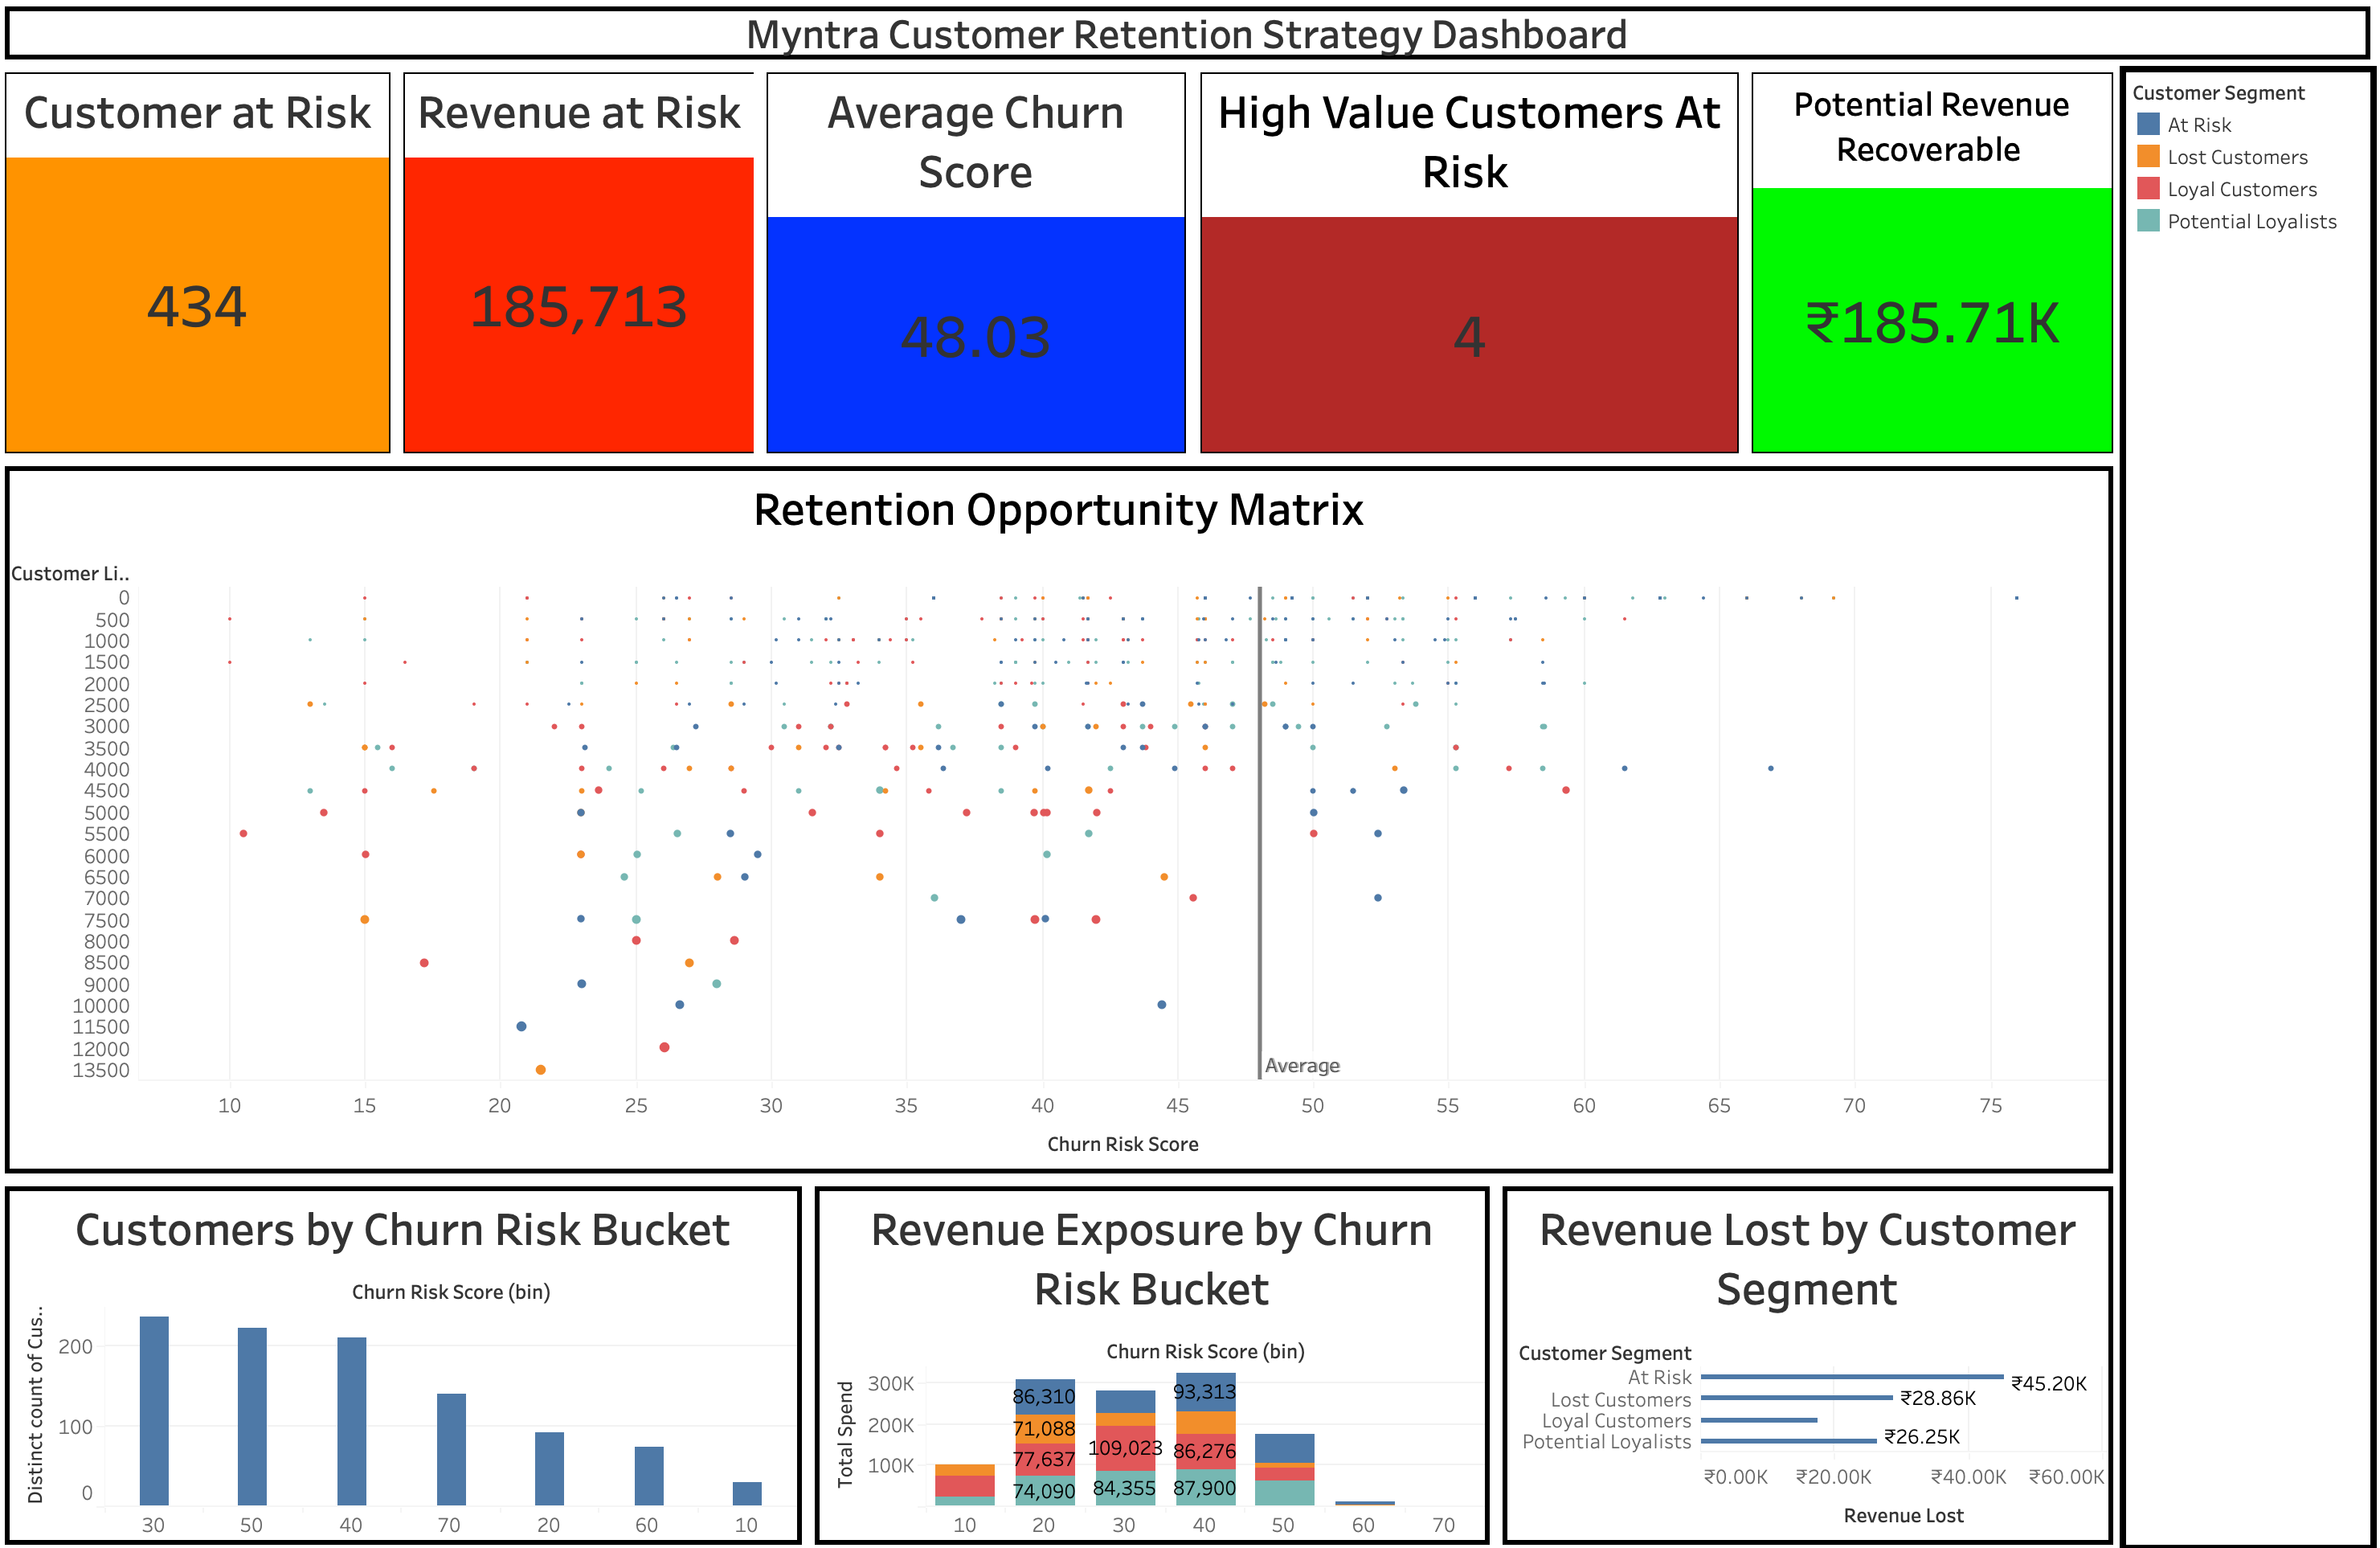

This screenshot's page, from the dashboard's own definition file:
{"tool":"tableau","page":{"name":"Myntra Customer Retention Strategy Dashboard","canvas":[1000,1000],"units":"permille","ordinal":3},"visuals":[{"type":"title","box":[5.4,8.2,989.3,41.8]},{"type":"worksheet","title":"Customer at Risk KPI","mark":"Automatic","box":[5.4,49.9,165.7,249.8]},{"type":"worksheet","title":"Revenue at Risk KPI","mark":"Automatic","box":[171.1,49.9,151.5,249.8]},{"type":"worksheet","title":"Average Churn Score KPI","mark":"Automatic","box":[322.5,49.9,180,249.8]},{"type":"worksheet","title":"High Value Customers At Risk KPI","mark":"Automatic","box":[502.6,49.9,229.5,249.8]},{"type":"worksheet","title":"Potential Revenue Recoverable KPI","mark":"Automatic","box":[732.1,49.9,155.6,249.8]},{"type":"legend","title":"Retention Opportunity Matrix","param":"[federated.08yzv0h1f0hq6t16tb4em1shkdt2].[none:customer_segment:nk]","box":[890.4,54,101.6,108]},{"type":"worksheet","title":"Retention Opportunity Matrix","mark":"Circle","rows":["Customer Lifetime Value Raw (bin)"],"cols":["churn_risk_score"],"box":[5.4,299.8,882.4,456.6]},{"type":"worksheet","title":"Customers by Churn Risk Bucket","mark":"Bar","rows":["customer_id"],"cols":["Churn Risk Score (bin)"],"box":[5.4,756.4,336.9,235.5]},{"type":"worksheet","title":"Revenue Exposure by Churn Risk Bucket","mark":"Bar","rows":["total_spend"],"cols":["Churn Risk Score (bin)"],"box":[342.2,756.4,286.1,235.5]},{"type":"worksheet","title":"Revenue Lost by Customer Segment","mark":"Automatic","rows":["customer_segment"],"cols":["Calculation_4777399736856579"],"box":[628.3,756.4,259.4,235.5]}]}

Visuals, with their boxes on the dashboard's canvas, which has no fixed pixel size, in thousandths of its width and height (x1, y1, x2, y2). These are canvas units, not pixel positions in the 2380x1548 screenshot, which may show the page scaled, cropped or inside an application window:
title: crop(5, 8, 995, 50)
"Customer at Risk KPI" worksheet: crop(5, 50, 171, 300)
"Revenue at Risk KPI" worksheet: crop(171, 50, 323, 300)
"Average Churn Score KPI" worksheet: crop(322, 50, 502, 300)
"High Value Customers At Risk KPI" worksheet: crop(503, 50, 732, 300)
"Potential Revenue Recoverable KPI" worksheet: crop(732, 50, 888, 300)
"Retention Opportunity Matrix" legend: crop(890, 54, 992, 162)
"Retention Opportunity Matrix" worksheet (Circle marks): crop(5, 300, 888, 756)
"Customers by Churn Risk Bucket" worksheet (Bar marks): crop(5, 756, 342, 992)
"Revenue Exposure by Churn Risk Bucket" worksheet (Bar marks): crop(342, 756, 628, 992)
"Revenue Lost by Customer Segment" worksheet: crop(628, 756, 888, 992)
